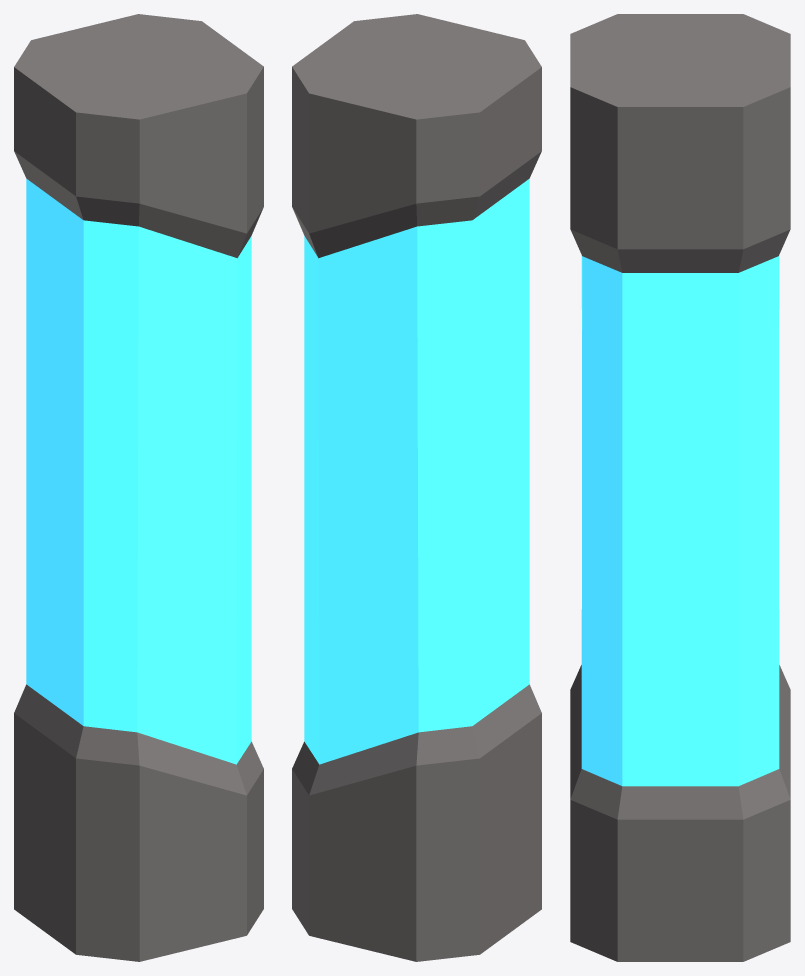
Rendered from scifi-scifi-pillar-light.glb.
The picture shows the model from 3 angles, left to right: view 1: azimuth 30°, elevation 25°; view 2: azimuth 150°, elevation 25°; view 3: azimuth 270°, elevation 25°; orthographic projection.
Visible parts, largest first — view 1: scifi-pillar-light; view 2: scifi-pillar-light; view 3: scifi-pillar-light.
Part boxes in pixels (left/top/right/bottom): scifi-pillar-light: left=14, top=14, right=263, bottom=961; scifi-pillar-light: left=292, top=14, right=541, bottom=961; scifi-pillar-light: left=570, top=14, right=790, bottom=961.
Size of the model in its own units: 0.7003 by 3 by 0.7003.
